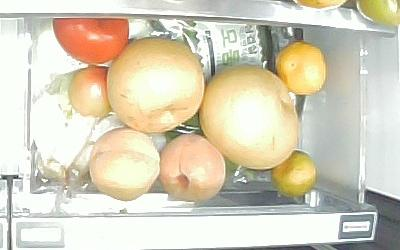peach: (88, 126, 162, 203), (158, 132, 226, 203)
pear: (197, 64, 300, 171), (105, 36, 207, 135)
tangerine: (274, 41, 329, 96), (271, 149, 319, 198)
tomato: (52, 16, 130, 64), (68, 65, 120, 118)
